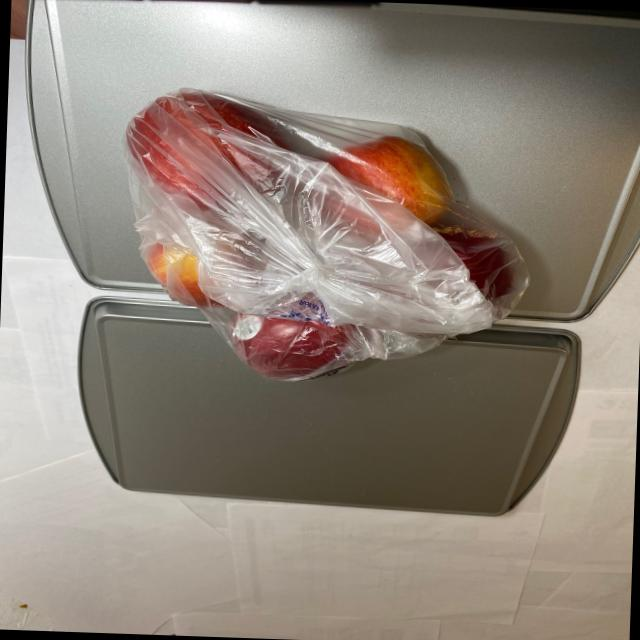apple: (117, 86, 538, 392)
